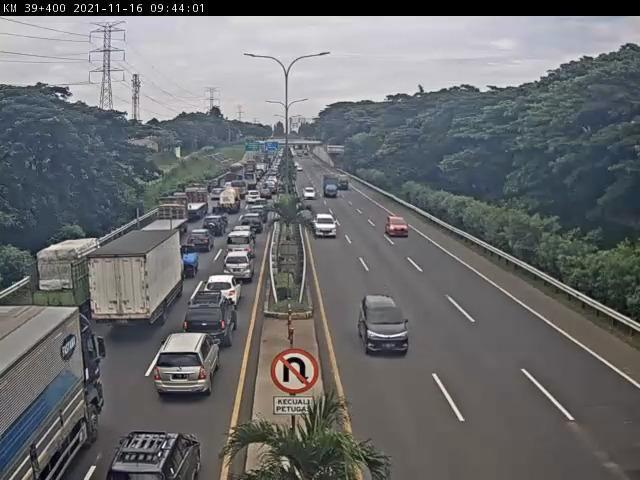car: (109, 430, 206, 480), (155, 332, 224, 396), (361, 293, 410, 357), (187, 290, 237, 344), (208, 274, 243, 305), (224, 252, 255, 280), (229, 230, 254, 257), (191, 229, 216, 253), (315, 214, 339, 238), (386, 214, 410, 237), (203, 215, 228, 237)
truck: (92, 231, 187, 328), (27, 237, 116, 318)
